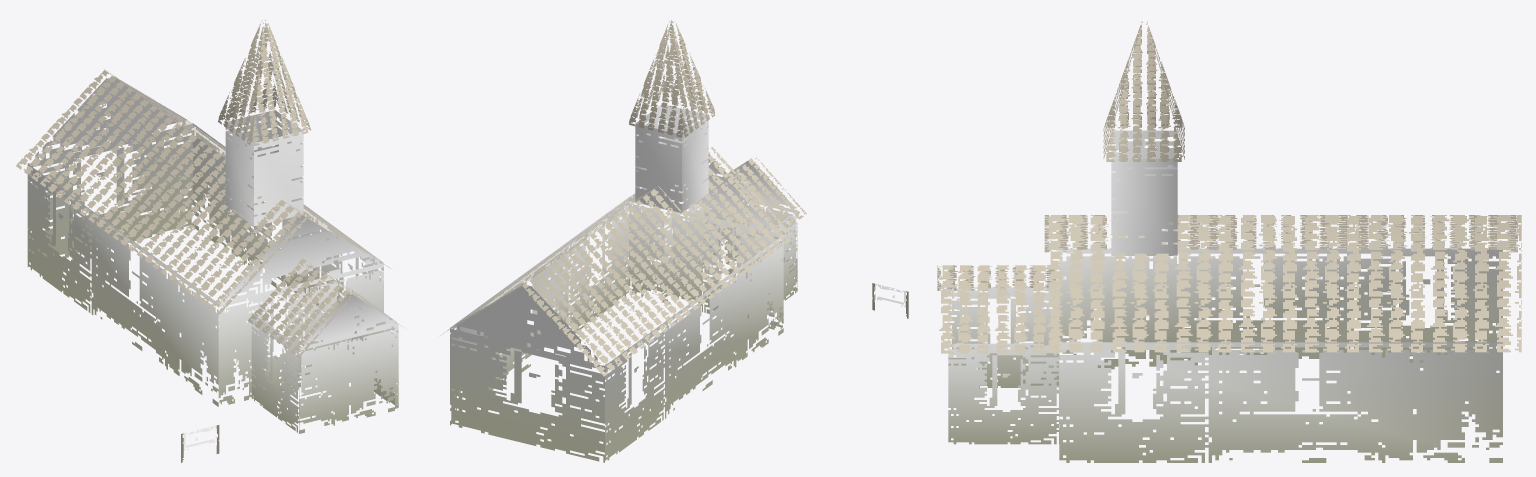
Rendered from uvmd-0083.glb.
The picture shows the model from 3 angles, left to right: view 1: azimuth 30°, elevation 25°; view 2: azimuth 150°, elevation 25°; view 3: azimuth 270°, elevation 25°; orthographic projection. The views are drawn at different scales.
Visible parts, largest first — view 1: uvmd-0083; view 2: uvmd-0083; view 3: uvmd-0083.
Boxes of the visible parts, left/top/right/bottom form: uvmd-0083: left=16, top=20, right=405, bottom=462; uvmd-0083: left=440, top=20, right=908, bottom=462; uvmd-0083: left=937, top=21, right=1521, bottom=462.
Size of the model in its own units: 93 by 120 by 158.
Materials: 2 (2 with a texture image).
